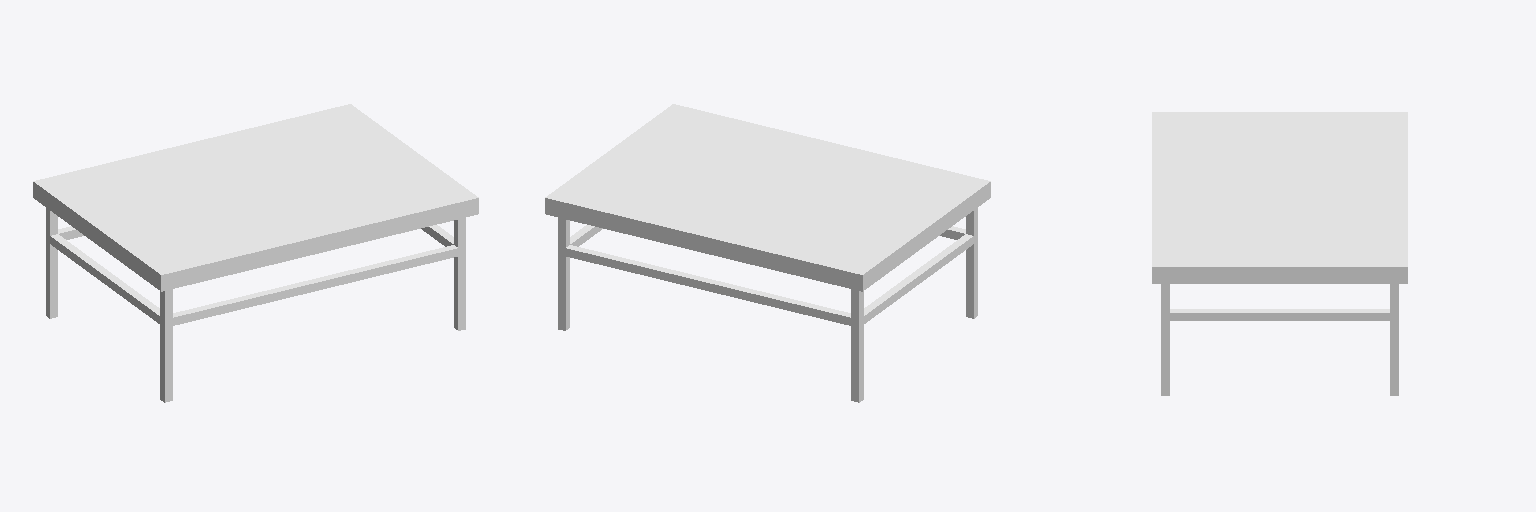
Rendered from LTable.obj.
3 renders of one model, left to right at view 1: azimuth 30°, elevation 25°; view 2: azimuth 150°, elevation 25°; view 3: azimuth 270°, elevation 25°, orthographic.
Parts seen in each view (by area): view 1: object 1; view 2: object 1; view 3: object 1.
Part boxes in pixels (bbox=[...]): object 1: bbox=[33, 104, 478, 402]; object 1: bbox=[545, 104, 990, 402]; object 1: bbox=[1152, 112, 1407, 395].
Bounding box in the file's own units: 4 × 1.6 × 2.8.